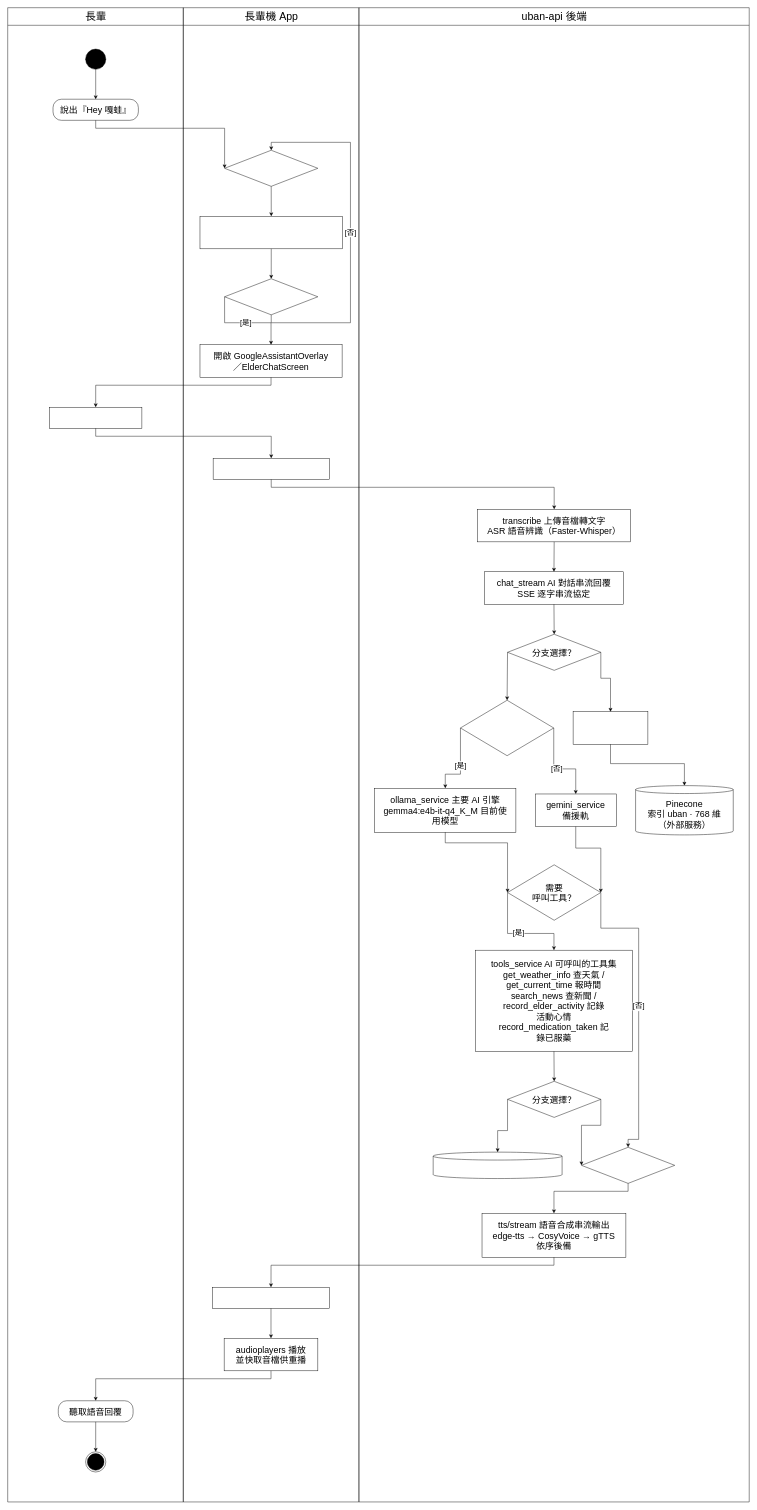
Image size: 757x1510. Some labels were removed from this diagram. The centre of each missing label's shape, as x and y in pixels:
"activity_log 長輩活動紀錄" goes at point 497,1165.
"Ollama 可達？" goes at point 507,728.
"record 錄音 → 上傳 wav" goes at point 271,468.
"命中喚醒詞？" goes at point 271,296.
"常駐 SpeechToText 監聽喚醒詞 elder_home_screen.dart" goes at point 271,232.
"接收 SSE 串流並逐字顯示" goes at point 270,1297.
"背景執行緒 向量化 upsert" goes at point 610,727.
"說出問題或閒聊內容" goes at point 95,417.
